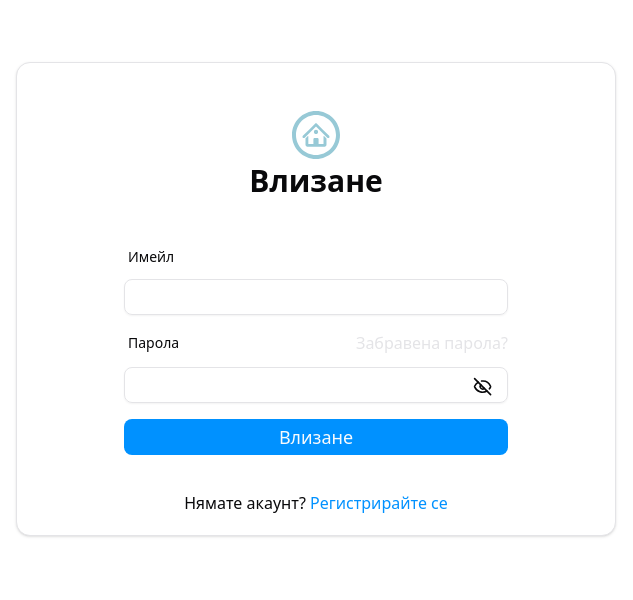
it: login page errors › shows the error for a 403 without the unverified code (CORS rejection) on the login page
Type "vesko@example.com" into the field labelled "Имейл" at (316, 297), box [124, 279, 508, 315]
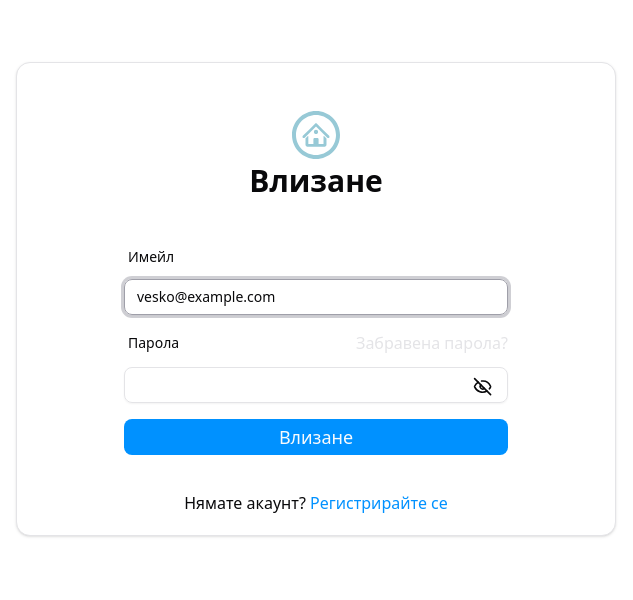
Type "a-password" into the password field labelled "Парола" at (316, 385), box [124, 367, 508, 403]
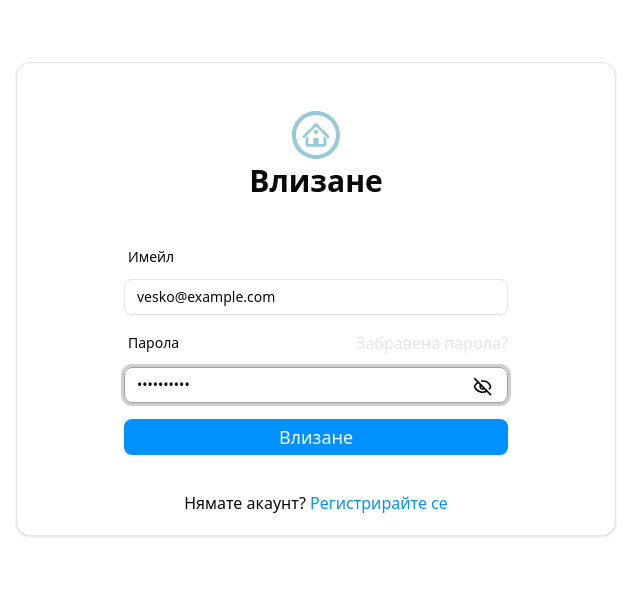
Click the button "Влизане" at (316, 437), box [124, 419, 508, 455]
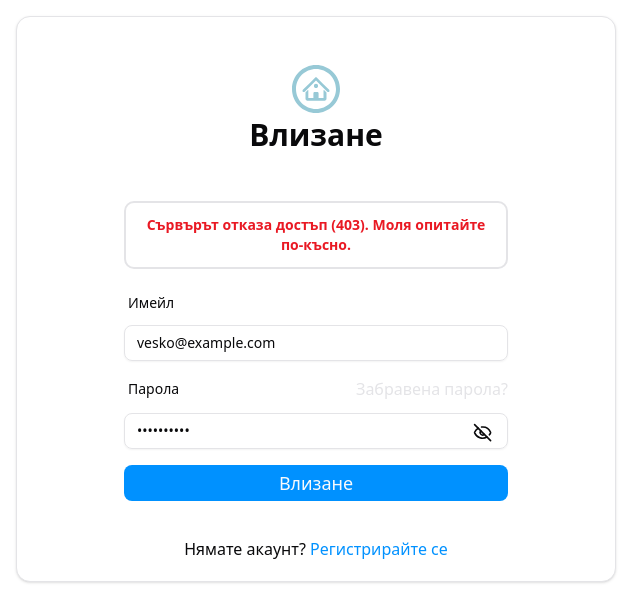
Expected: the button "Влизане" is enabled, [124, 465, 508, 501]
Now the text "Сървърът отказа достъп (403). Моля опитайте по-късно." is shown, box [142, 215, 490, 255]
